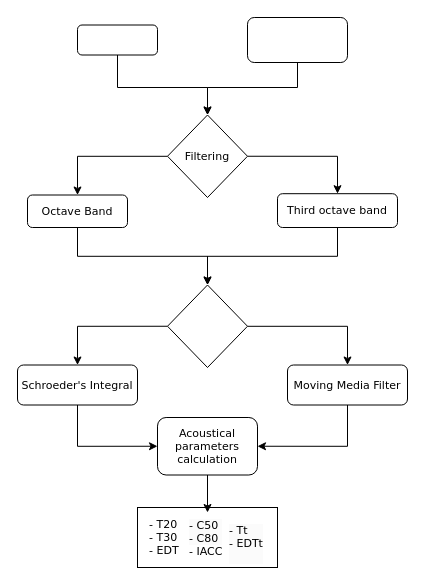
Image size: 425x585. Some labels were removed from this diagram. Here are the shapes that lost their labels. From the top down, the box of each, then its label:
(76, 24, 158, 55): RIR
(246, 16, 348, 62): Sine sweep + inverse filter
(166, 284, 248, 368): Smoothing
